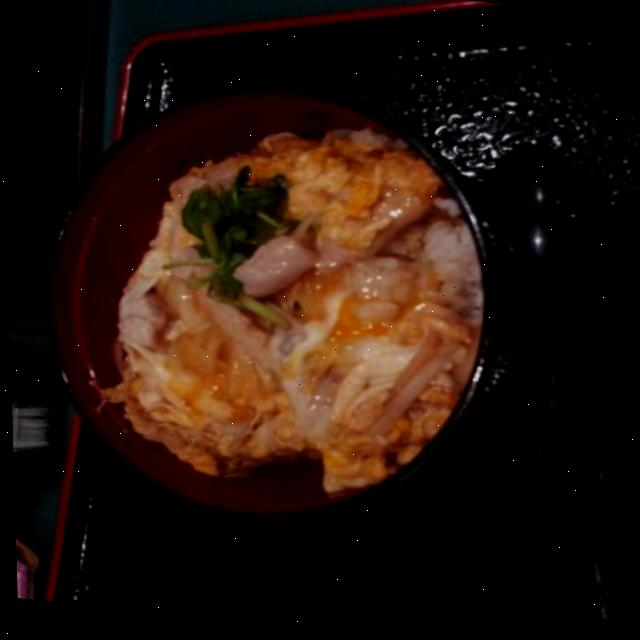米饭主食: (9, 57, 518, 574)
